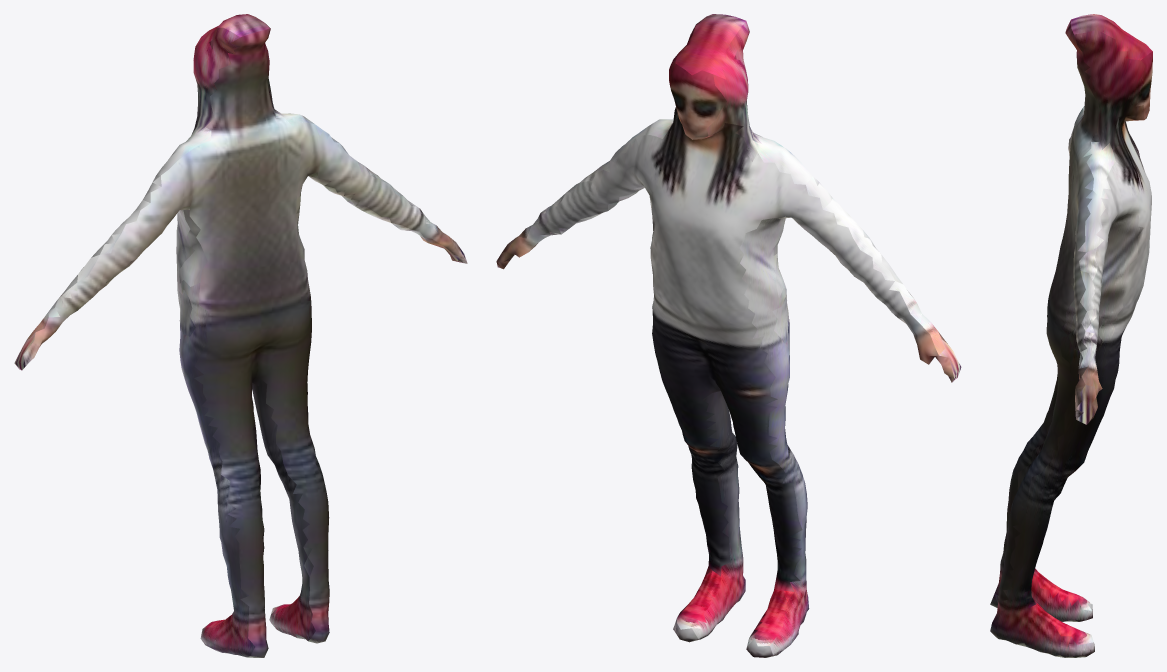
3 renders of one model, left to right at view 1: azimuth 30°, elevation 25°; view 2: azimuth 150°, elevation 25°; view 3: azimuth 270°, elevation 25°, orthographic. The views are drawn at different scales.
Parts seen in each view (by area): view 1: world; view 2: world; view 3: world.
Boxes of the visible parts, <box> form: world: <box>14,14,467,657</box>; world: <box>496,14,961,657</box>; world: <box>990,14,1152,657</box>.
Bounding box in the file's own units: 0.7692 × 1.01 × 0.2411.
Materials: 1 (1 with a texture image).
